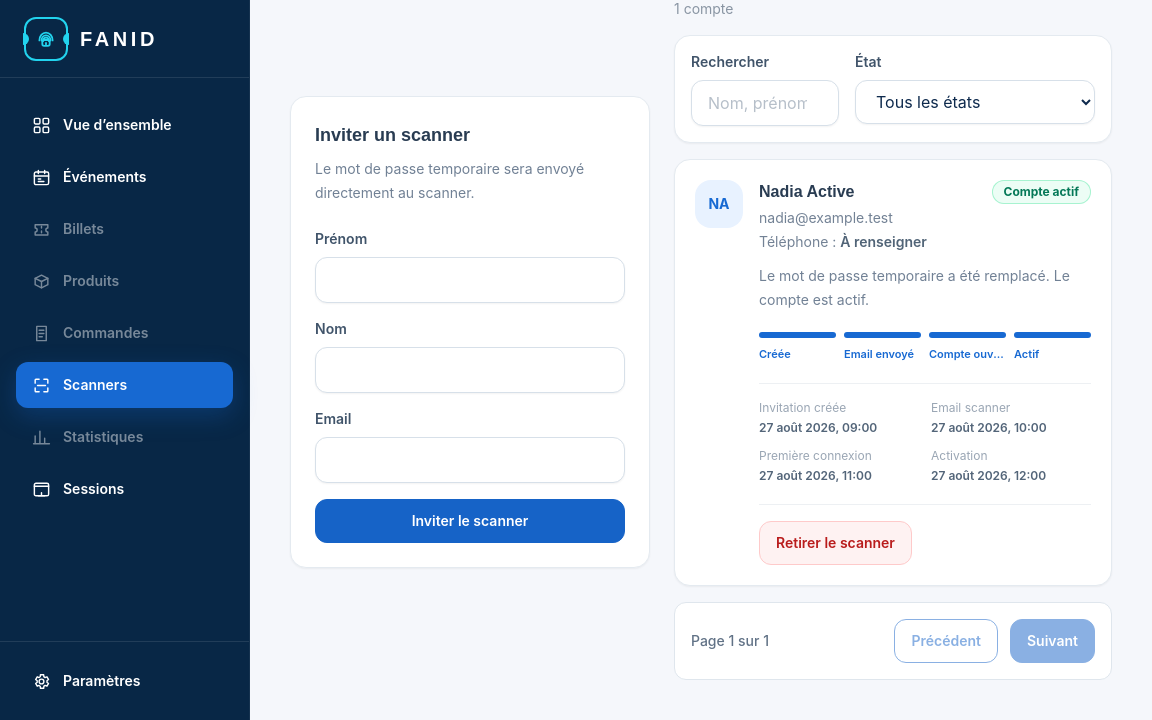
Test: OrganizerScannersPage - OTP actions sensibles › conserve le Step-Up et le code lorsque le retrait renvoie OTP_INVALID
(page scrolled)
Click the button "Retirer le scanner": (835, 542) x1=759 y1=520 x2=912 y2=564
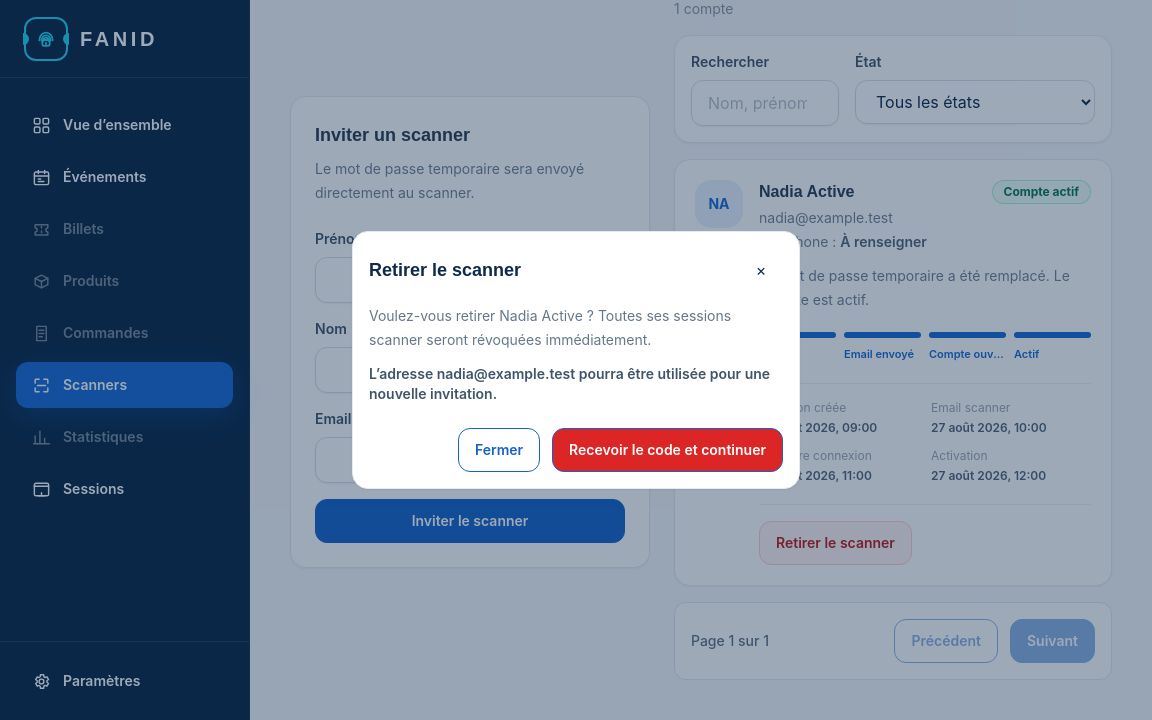
Click the button "Recevoir le code et continuer": (668, 450) x1=552 y1=428 x2=783 y2=472
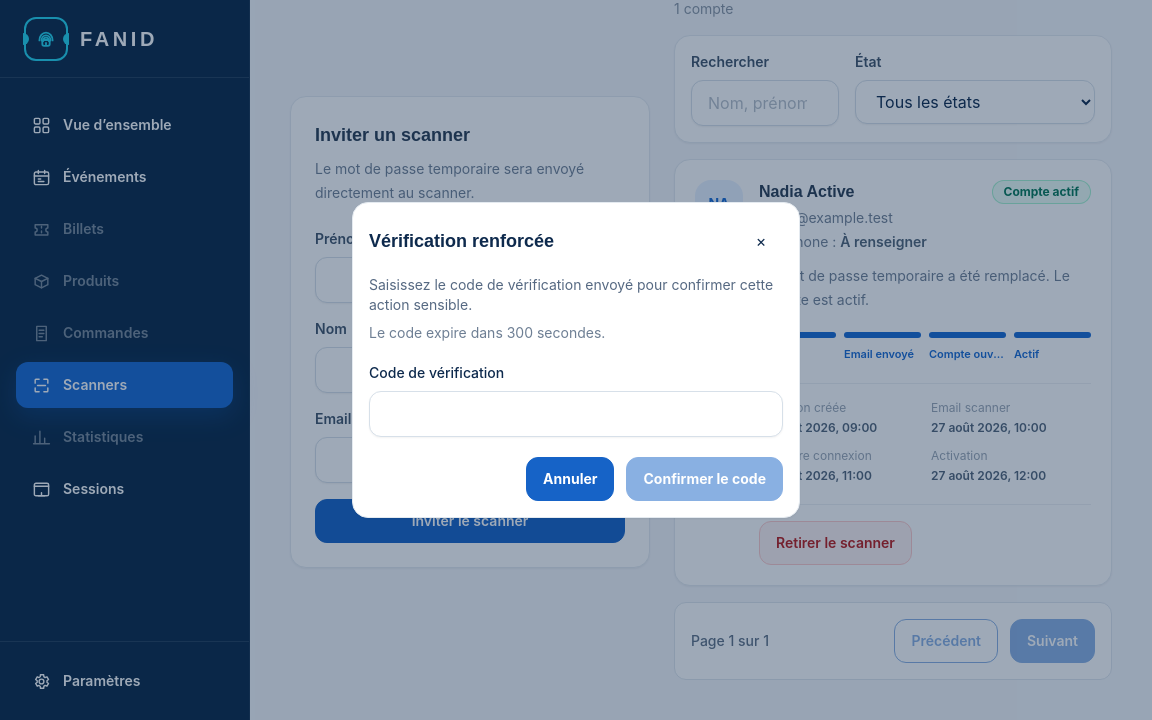
Expected: the dialog "Vérification renforcée" is shown
In the field labelled "Code de vérification": (576, 414) x1=369 y1=391 x2=783 y2=437, type "123456"
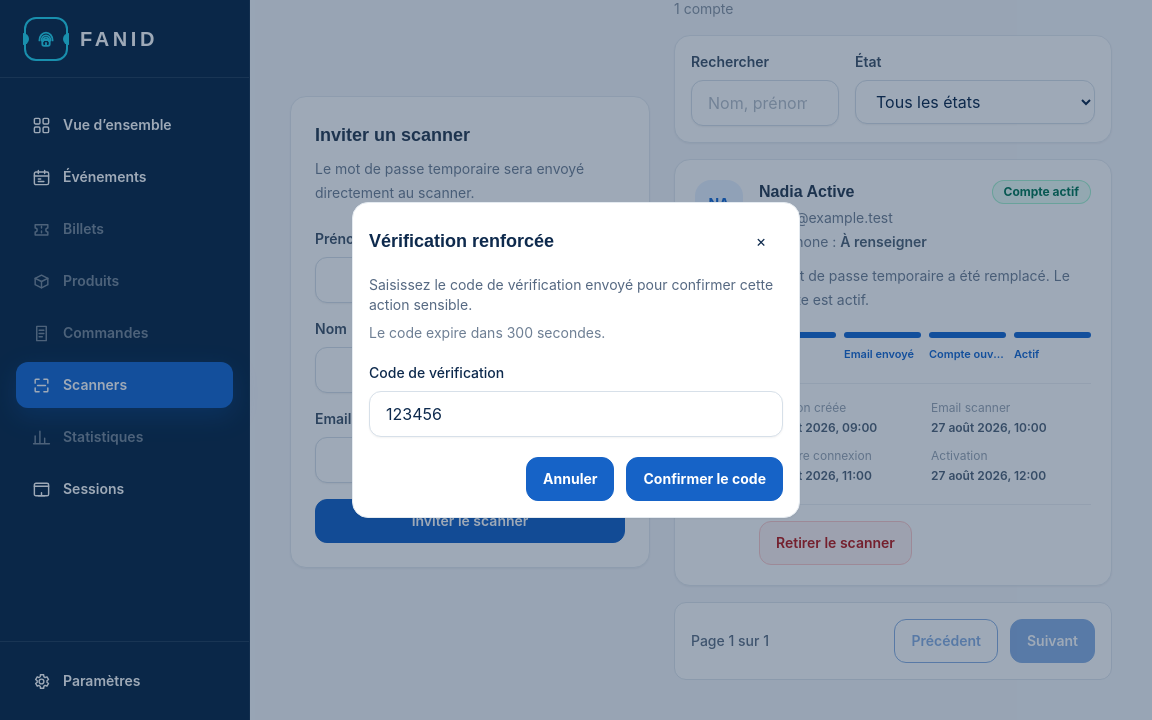
Click the button "Confirmer le code": (705, 479) x1=626 y1=457 x2=783 y2=501
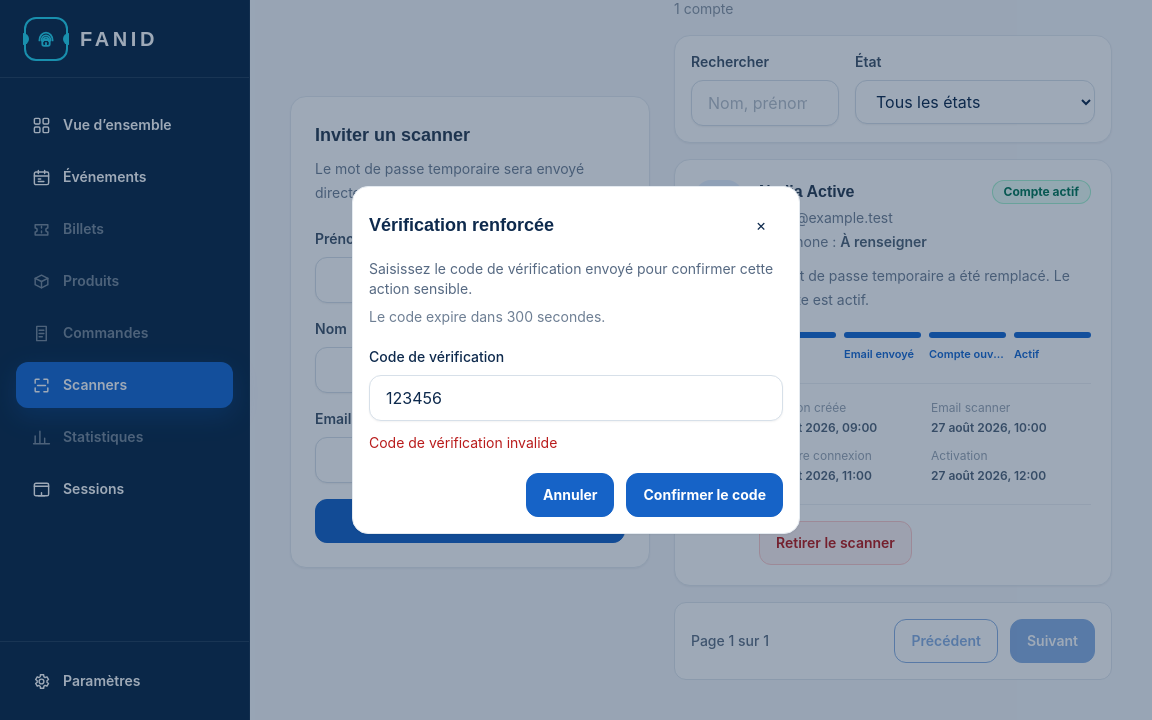
Expected: the dialog "Vérification renforcée" is shown
Expected: the message reads "Code de vérification invalide", x1=369 y1=434 x2=557 y2=451
